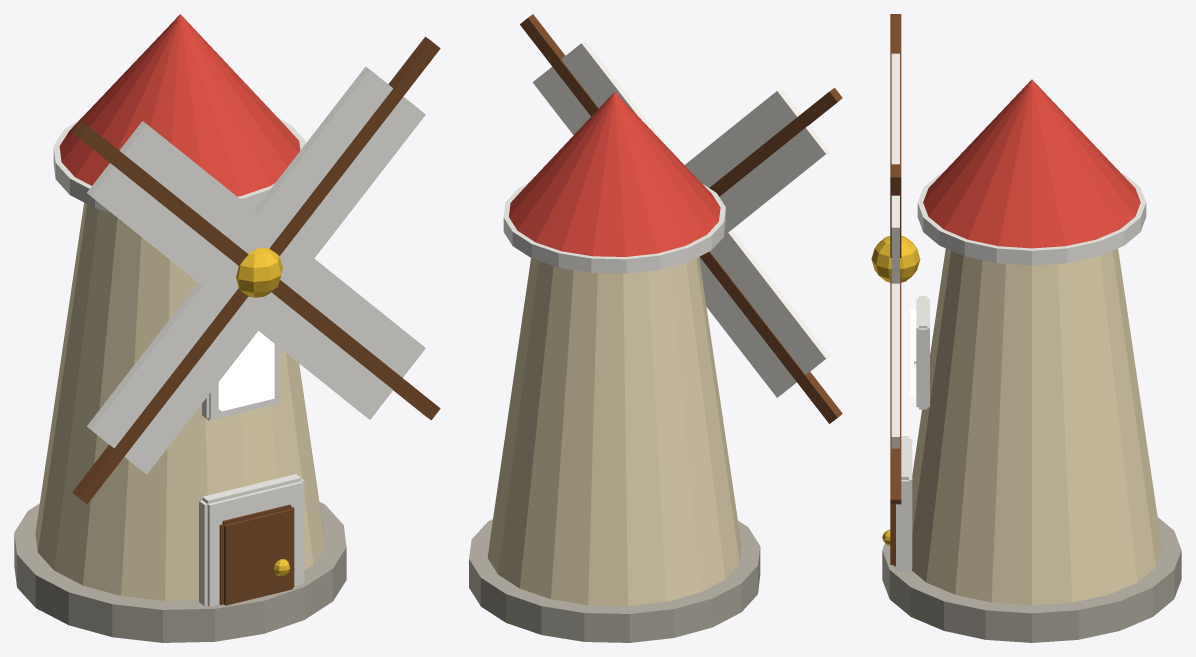
Rendered from windmill.glb.
3 views of the same model, side by side, from view 1: azimuth 30°, elevation 25°; view 2: azimuth 150°, elevation 25°; view 3: azimuth 270°, elevation 25° (orthographic). The views are drawn at different scales.
Visible parts, largest first — view 1: windmill; view 2: windmill; view 3: windmill.
Boxes of the visible parts, left/top/right/bottom form: windmill: left=14, top=14, right=440, bottom=642; windmill: left=469, top=14, right=842, bottom=642; windmill: left=871, top=14, right=1181, bottom=642.
Bounding box in the file's own units: 1.38 × 2.03 × 1.14.
